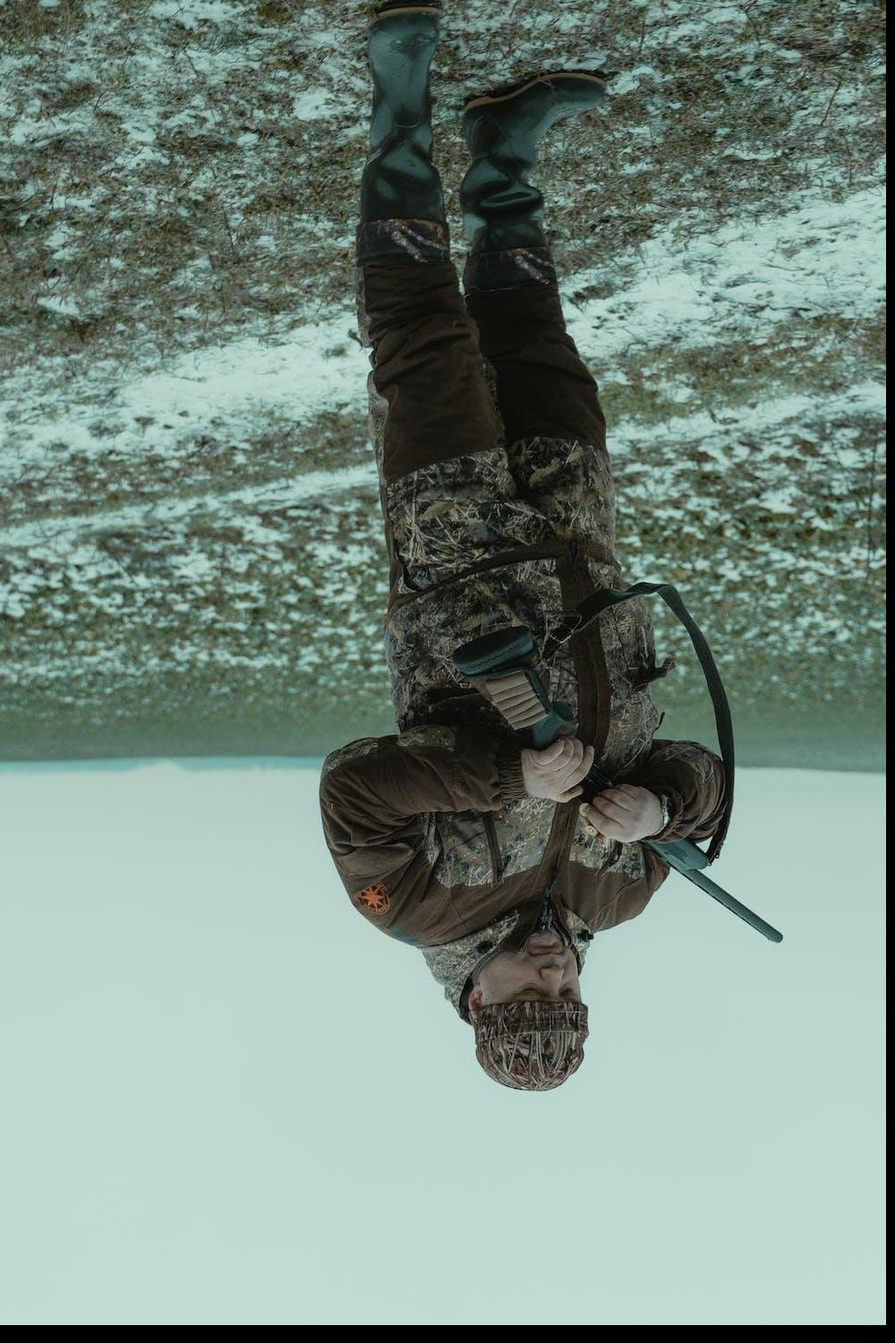larga: (450, 625, 784, 946)
